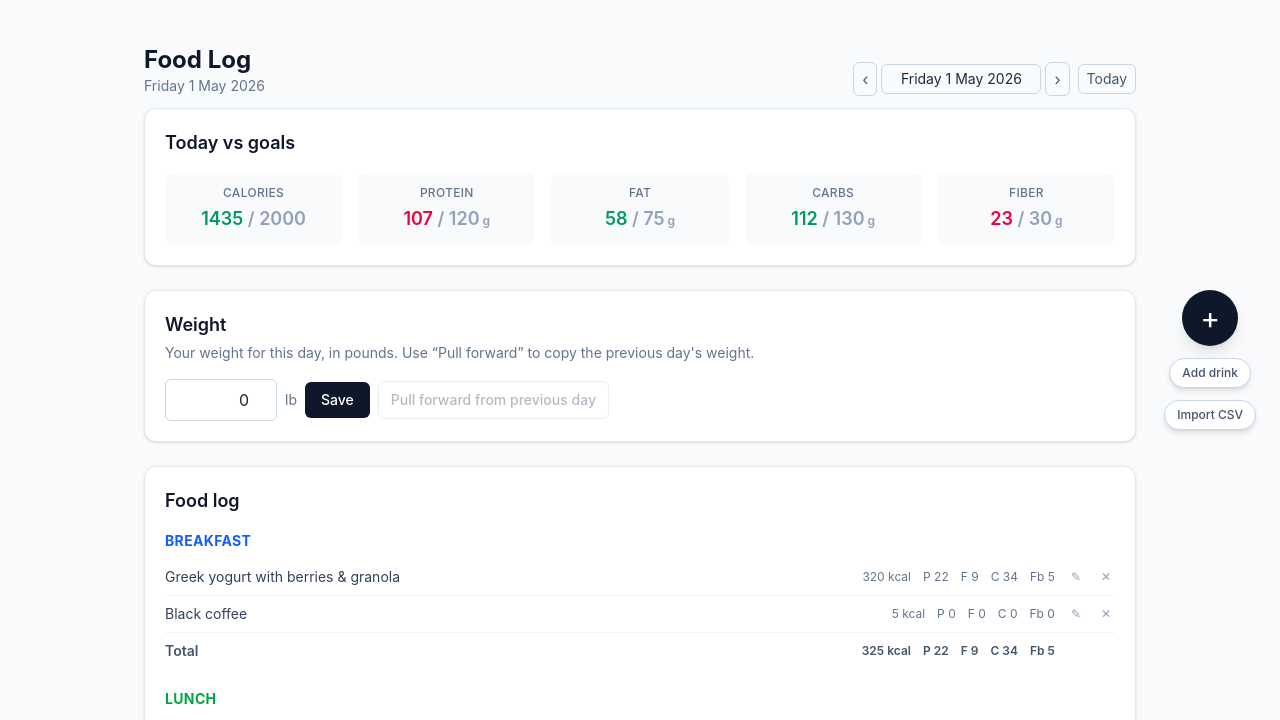
Dashboard › adding and deleting entries › deletes an entry after confirmation and updates totals
Click the button named "Delete Black coffee" at (1106, 614), box [1097,606,1115,622]
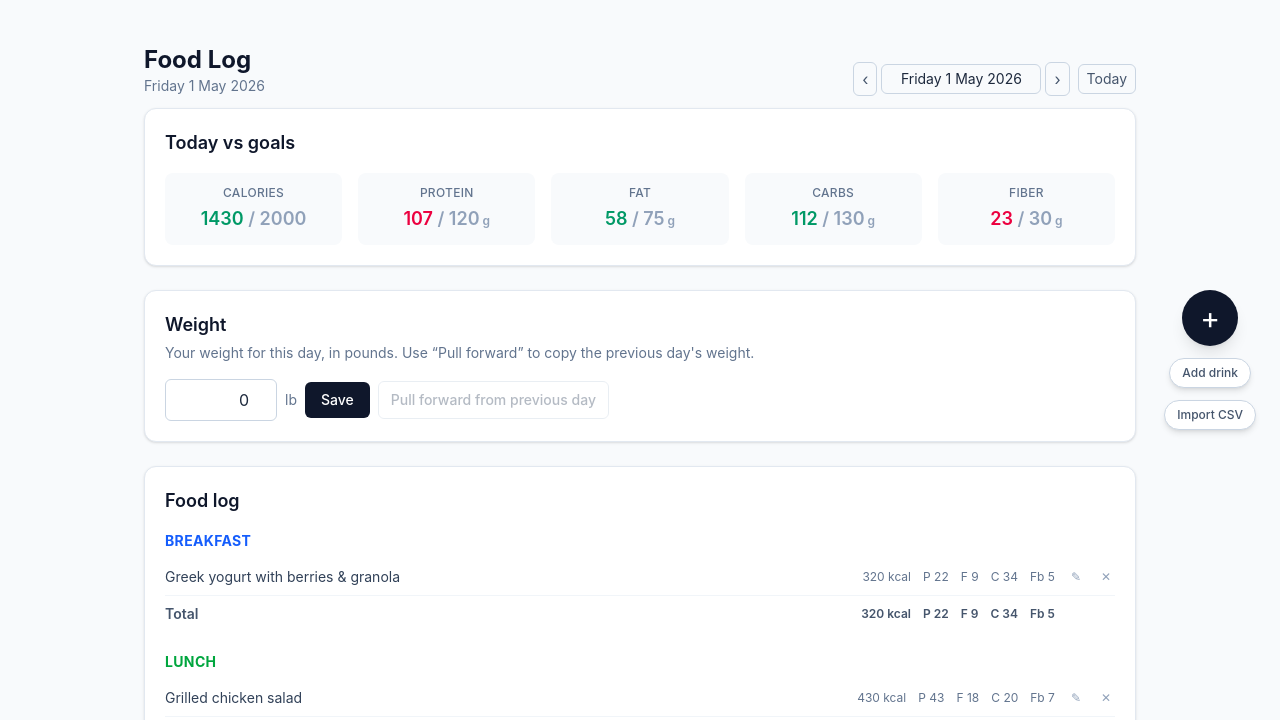
Expected: the text "Black coffee" is gone
Expected: the text named "Calories consumed" reads "1430", [201,208,244,229]
